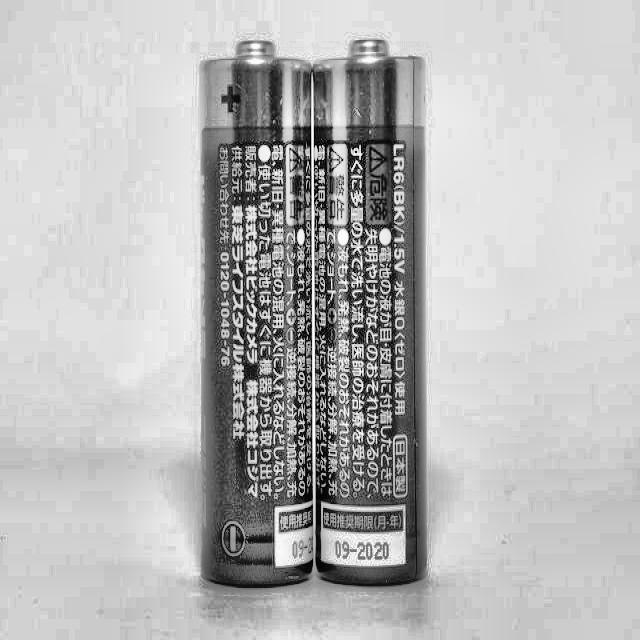drycell: (311, 32, 434, 592), (195, 37, 314, 594)
